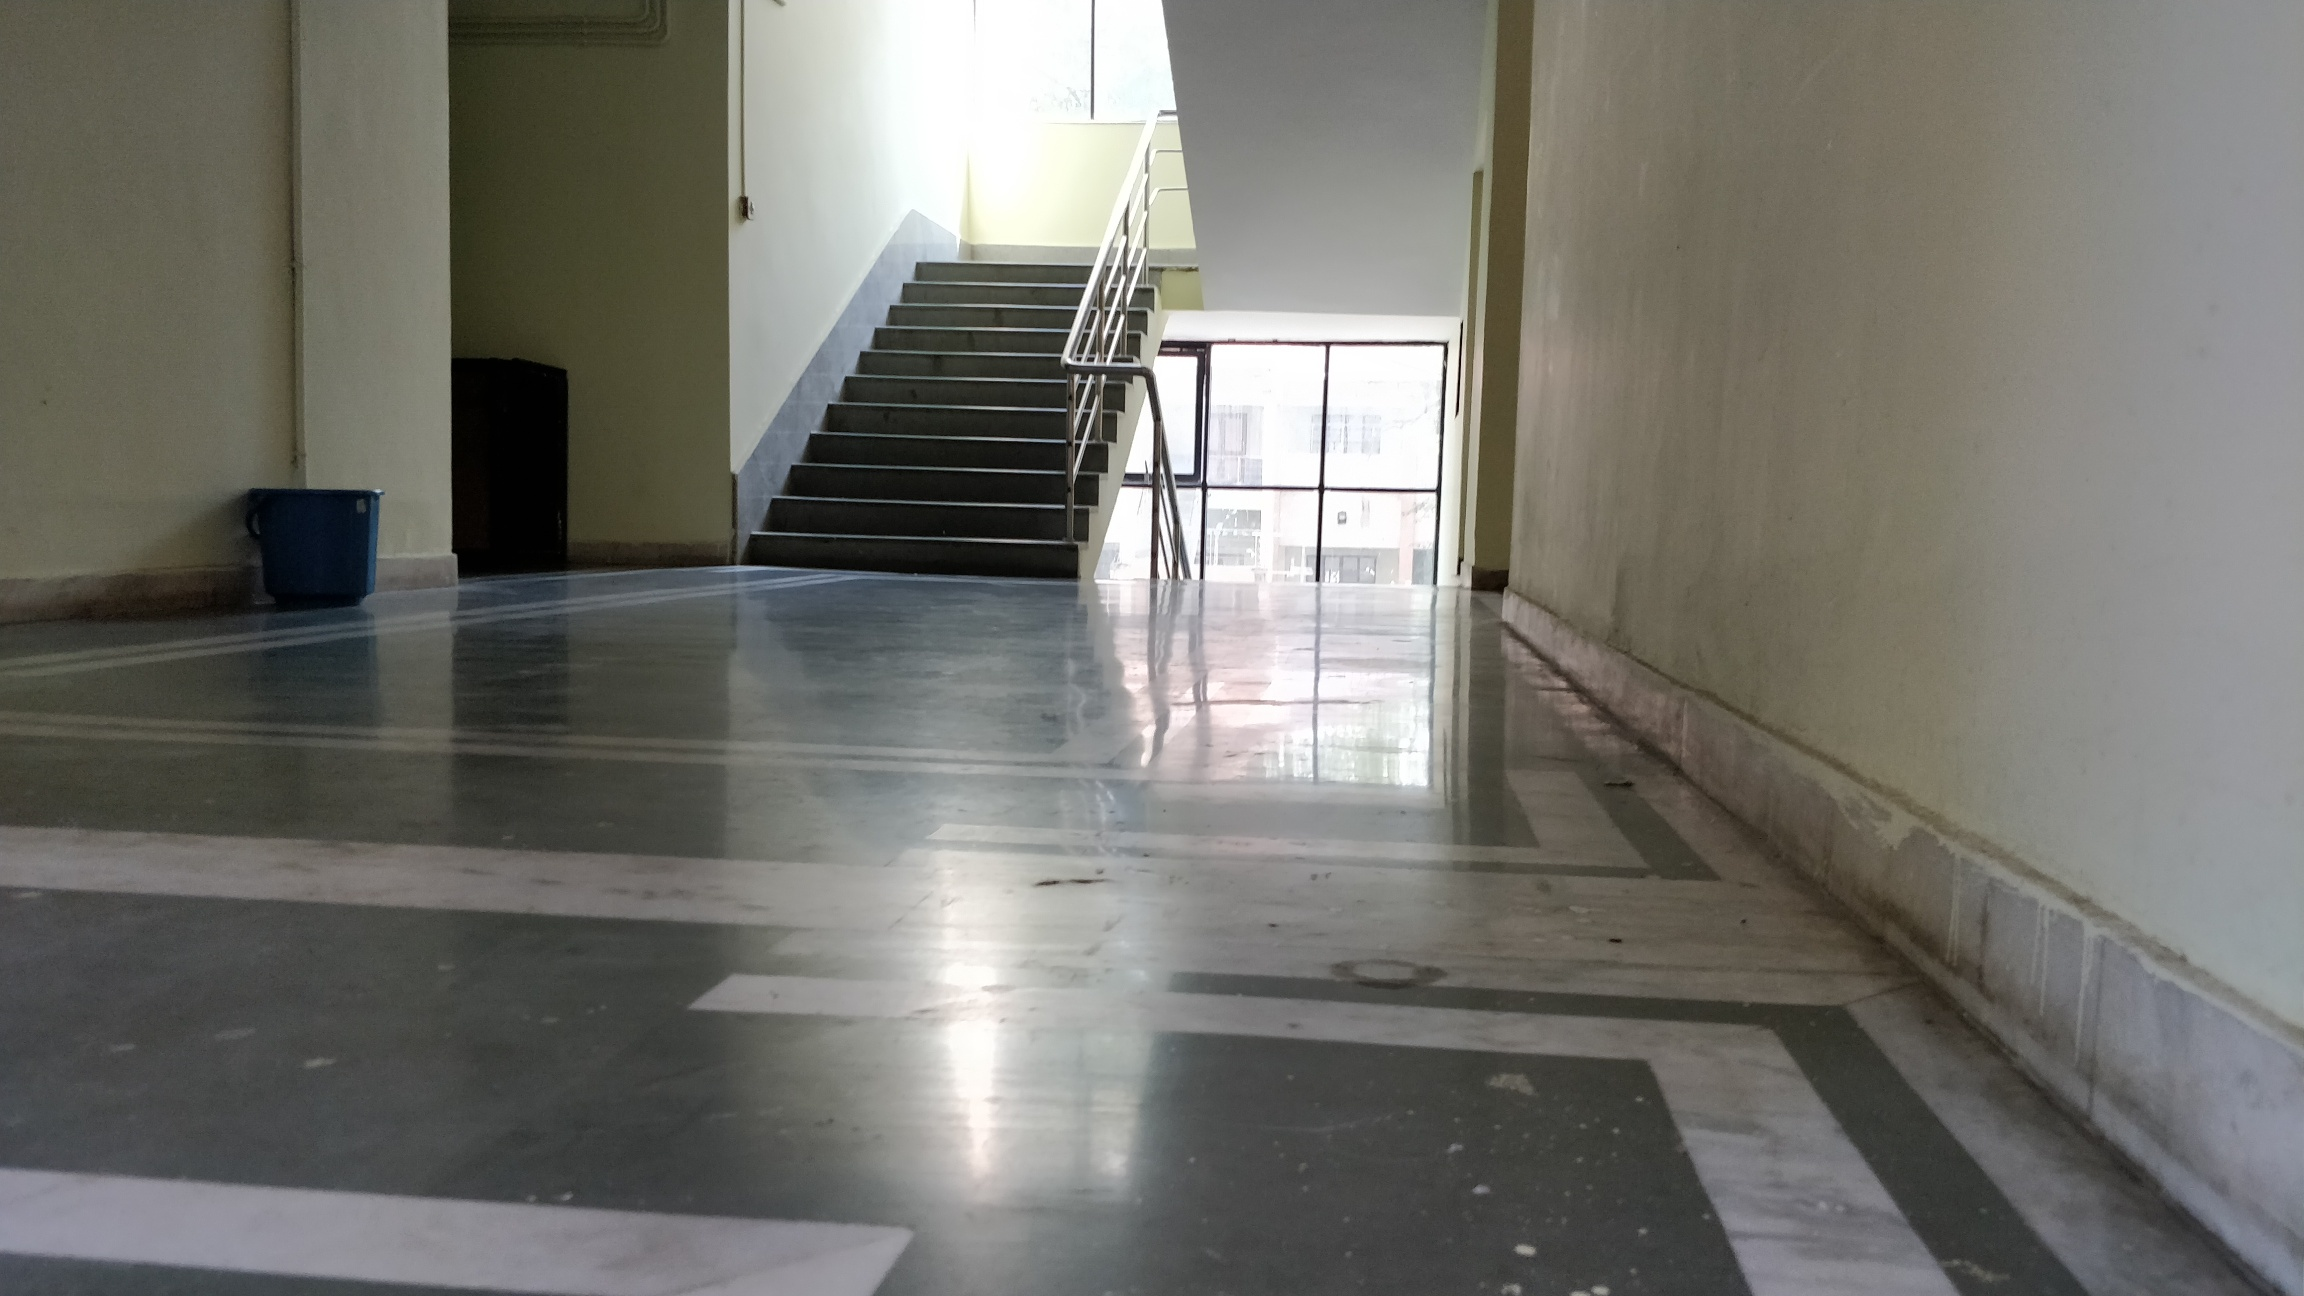stairs_up: (745, 261, 1146, 581)
